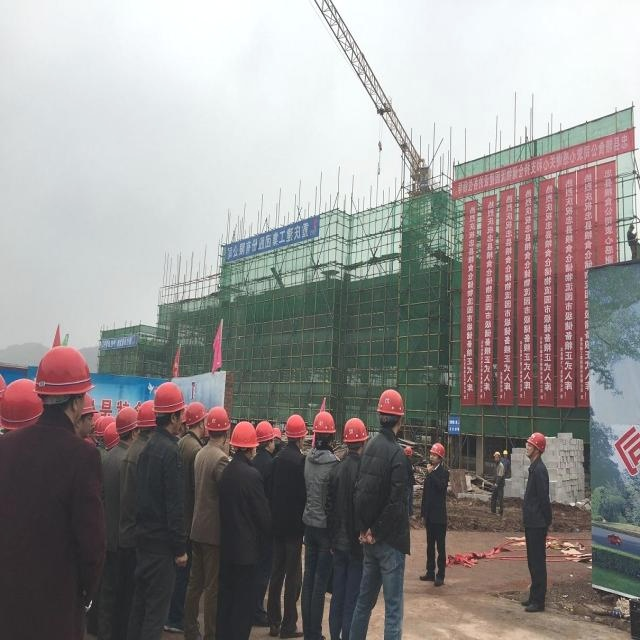Con_Casco: (376, 387, 404, 434), (312, 411, 337, 450), (523, 430, 549, 463)
